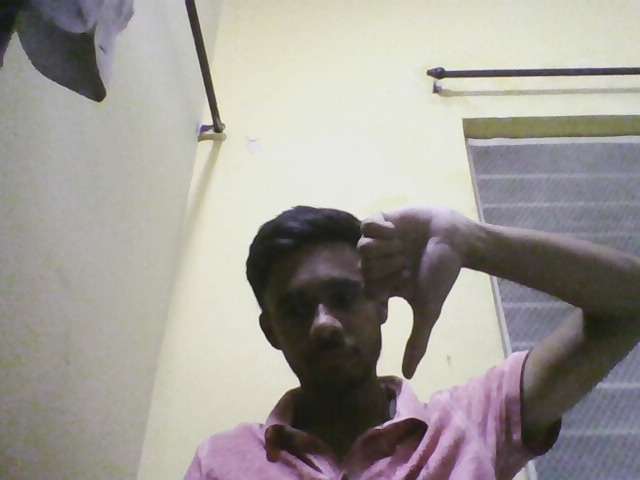no: (358, 184, 489, 384)
